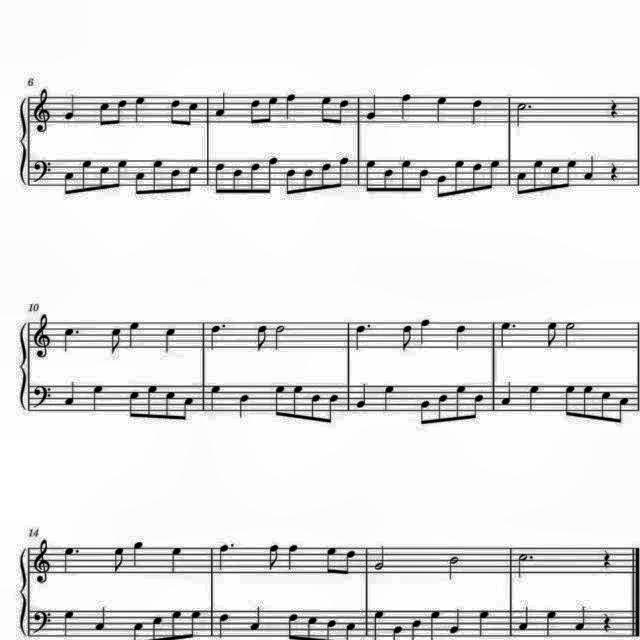Bass-clef: (32, 607, 56, 637), (32, 157, 56, 187), (31, 380, 55, 410)
Eighth-note: (266, 156, 282, 197), (613, 392, 631, 428), (109, 324, 128, 358), (453, 382, 469, 422), (148, 156, 164, 196), (451, 156, 467, 196), (78, 157, 94, 196), (144, 381, 160, 419), (530, 157, 546, 195), (560, 380, 576, 418), (318, 92, 336, 125), (468, 160, 484, 196), (247, 160, 263, 196), (212, 158, 228, 194), (487, 156, 503, 192), (597, 386, 613, 422), (362, 156, 378, 192), (166, 95, 184, 127), (399, 321, 417, 352), (251, 322, 269, 353), (543, 318, 561, 349), (398, 157, 412, 196), (436, 392, 452, 426), (168, 608, 185, 640), (163, 389, 179, 423), (126, 386, 142, 420), (336, 156, 352, 190), (245, 96, 262, 128), (265, 542, 283, 572), (109, 545, 127, 575), (290, 381, 304, 419), (582, 381, 596, 419), (116, 160, 132, 193), (318, 160, 334, 192), (342, 546, 358, 578), (188, 608, 204, 640), (326, 546, 342, 578), (562, 156, 578, 188), (282, 166, 298, 198), (113, 96, 129, 128), (272, 380, 286, 416), (184, 163, 200, 194), (308, 391, 324, 422), (168, 166, 184, 196), (417, 397, 433, 427), (96, 98, 112, 128), (336, 97, 352, 127), (61, 170, 77, 200), (470, 392, 486, 421), (184, 99, 200, 128), (284, 612, 300, 640), (416, 166, 432, 194), (548, 164, 564, 192), (132, 168, 148, 196), (514, 168, 530, 196), (180, 392, 196, 420), (267, 94, 281, 126), (232, 165, 246, 195), (97, 163, 111, 193), (382, 167, 396, 196), (303, 166, 317, 194), (436, 172, 450, 200), (326, 390, 340, 418)
Half-dot: (513, 550, 535, 582), (514, 100, 536, 128)
Half-note: (372, 542, 388, 574), (272, 323, 288, 353), (562, 321, 578, 351), (446, 554, 462, 582)
Quarter-dot: (498, 315, 522, 353), (61, 324, 84, 356), (61, 544, 84, 576), (207, 322, 230, 354), (351, 322, 374, 354), (214, 540, 236, 572)
Quarter-note: (60, 90, 80, 122), (430, 94, 450, 126), (466, 95, 486, 126), (475, 608, 493, 640), (541, 608, 559, 640), (362, 92, 380, 124), (370, 608, 388, 640), (127, 321, 145, 352), (525, 382, 543, 413), (89, 382, 107, 413), (381, 382, 399, 413), (207, 382, 225, 413), (93, 605, 111, 635), (571, 605, 589, 635), (452, 323, 470, 353), (167, 545, 185, 575), (212, 90, 230, 120), (162, 326, 180, 356), (396, 91, 414, 121), (416, 317, 434, 347), (284, 542, 300, 574), (426, 608, 442, 640), (247, 606, 265, 634), (354, 379, 371, 408), (63, 379, 79, 409), (282, 92, 298, 122), (134, 93, 150, 123), (62, 610, 78, 640), (130, 539, 146, 569), (233, 392, 250, 420), (215, 611, 231, 640), (516, 606, 532, 634), (448, 608, 464, 636), (500, 378, 516, 406), (582, 156, 598, 184)
Quarter-rest: (605, 95, 621, 121), (599, 548, 615, 572), (606, 159, 620, 185), (600, 612, 614, 636)
Treble-clef: (31, 538, 55, 588), (28, 86, 52, 134), (32, 312, 54, 361)
